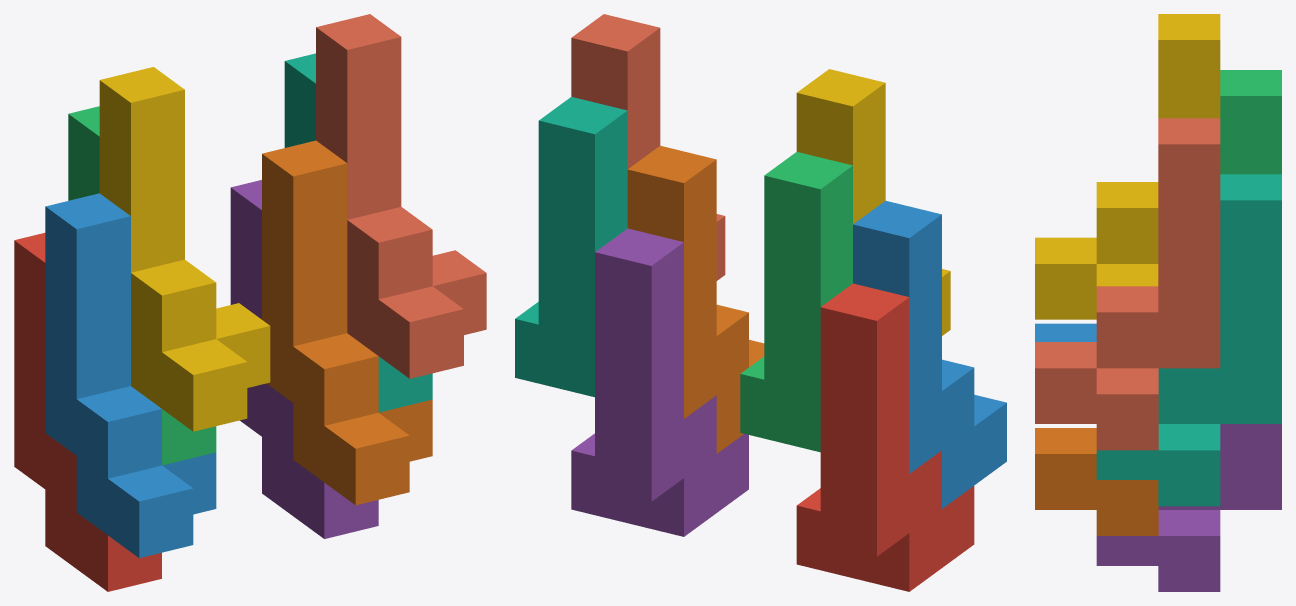
Rendered from tiling.obj.
3 views of the same model, side by side, from view 1: azimuth 30°, elevation 25°; view 2: azimuth 150°, elevation 25°; view 3: azimuth 270°, elevation 25° (orthographic). The views are drawn at different scales.
Visible parts, largest first — view 1: copy_1_domain_2, copy_1_domain_6, copy_1_domain_8, copy_1_domain_4, copy_1_domain_1, copy_1_domain_5, copy_1_domain_7, copy_1_domain_3; view 2: copy_1_domain_1, copy_1_domain_5, copy_1_domain_7, copy_1_domain_3, copy_1_domain_2, copy_1_domain_6, copy_1_domain_8, copy_1_domain_4; view 3: copy_1_domain_8, copy_1_domain_7, copy_1_domain_4, copy_1_domain_5, copy_1_domain_6, copy_1_domain_3, copy_1_domain_2.
Part boxes in pixels (left/top/right/bottom): copy_1_domain_2: left=45, top=193, right=216, bottom=558; copy_1_domain_6: left=262, top=140, right=432, bottom=505; copy_1_domain_8: left=316, top=14, right=486, bottom=378; copy_1_domain_4: left=99, top=67, right=270, bottom=431; copy_1_domain_1: left=14, top=233, right=161, bottom=591; copy_1_domain_5: left=230, top=180, right=378, bottom=538; copy_1_domain_7: left=284, top=53, right=432, bottom=412; copy_1_domain_3: left=68, top=106, right=216, bottom=465; copy_1_domain_1: left=796, top=283, right=974, bottom=591; copy_1_domain_5: left=571, top=228, right=748, bottom=536; copy_1_domain_7: left=515, top=97, right=627, bottom=397; copy_1_domain_3: left=740, top=152, right=852, bottom=452; copy_1_domain_2: left=853, top=200, right=1006, bottom=508; copy_1_domain_6: left=627, top=145, right=764, bottom=453; copy_1_domain_8: left=571, top=14, right=725, bottom=280; copy_1_domain_4: left=796, top=69, right=950, bottom=335; copy_1_domain_8: left=1035, top=118, right=1220, bottom=450; copy_1_domain_7: left=1096, top=174, right=1281, bottom=506; copy_1_domain_4: left=1035, top=14, right=1220, bottom=319; copy_1_domain_5: left=1096, top=424, right=1281, bottom=591; copy_1_domain_6: left=1035, top=428, right=1158, bottom=535; copy_1_domain_3: left=1220, top=70, right=1281, bottom=174; copy_1_domain_2: left=1035, top=323, right=1096, bottom=341.
Size of the model in its own units: 7 by 8 by 4.
